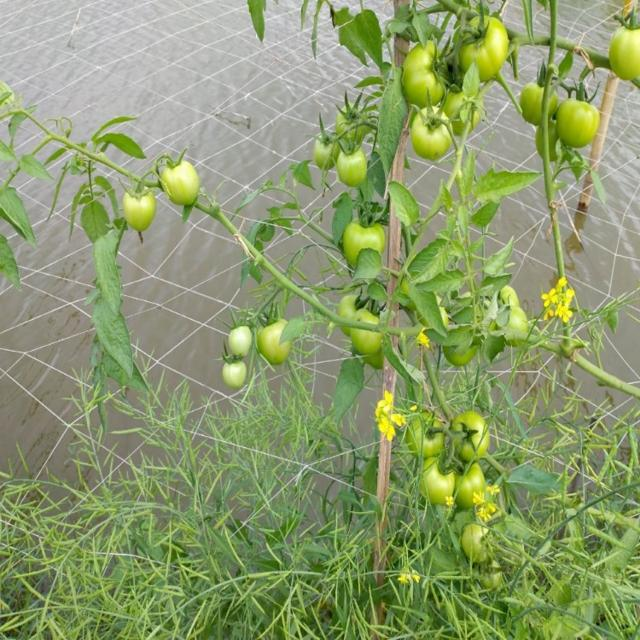tomato: (459, 16, 511, 79), (398, 41, 447, 106), (453, 410, 495, 465), (163, 154, 202, 211), (560, 94, 600, 148), (605, 20, 640, 81), (412, 113, 452, 162), (408, 410, 448, 459), (418, 458, 457, 508), (446, 87, 483, 132), (352, 305, 384, 355), (465, 521, 497, 571), (334, 103, 373, 143), (335, 291, 371, 334), (122, 188, 155, 231), (258, 319, 289, 364), (458, 464, 491, 505), (496, 305, 532, 342), (522, 78, 557, 114), (340, 150, 368, 191), (536, 124, 566, 161), (446, 346, 480, 374), (499, 282, 527, 313), (226, 326, 253, 358), (314, 137, 339, 169), (223, 361, 248, 393), (364, 347, 387, 374)
